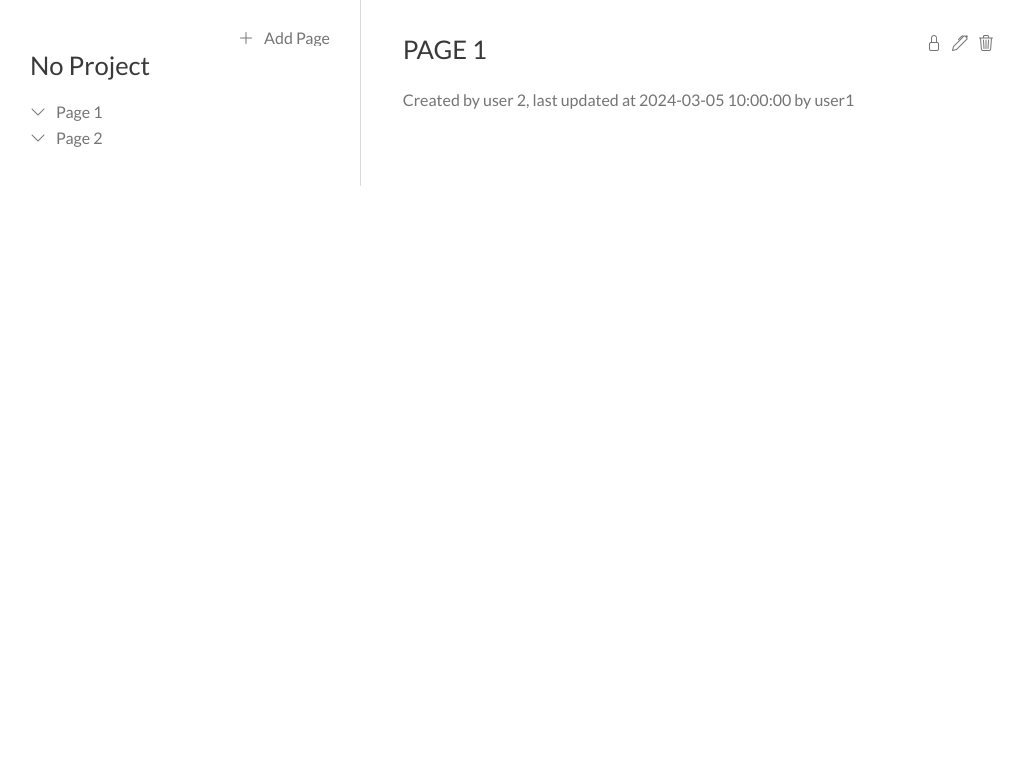
Test: <DocumentPage /> › should open the "Edit Permissions" dialog when the "Edit Permissions" button is clicked
Click the button with test id "DocumentPage.editPermissions.button": (934, 43) [926, 35, 942, 51]
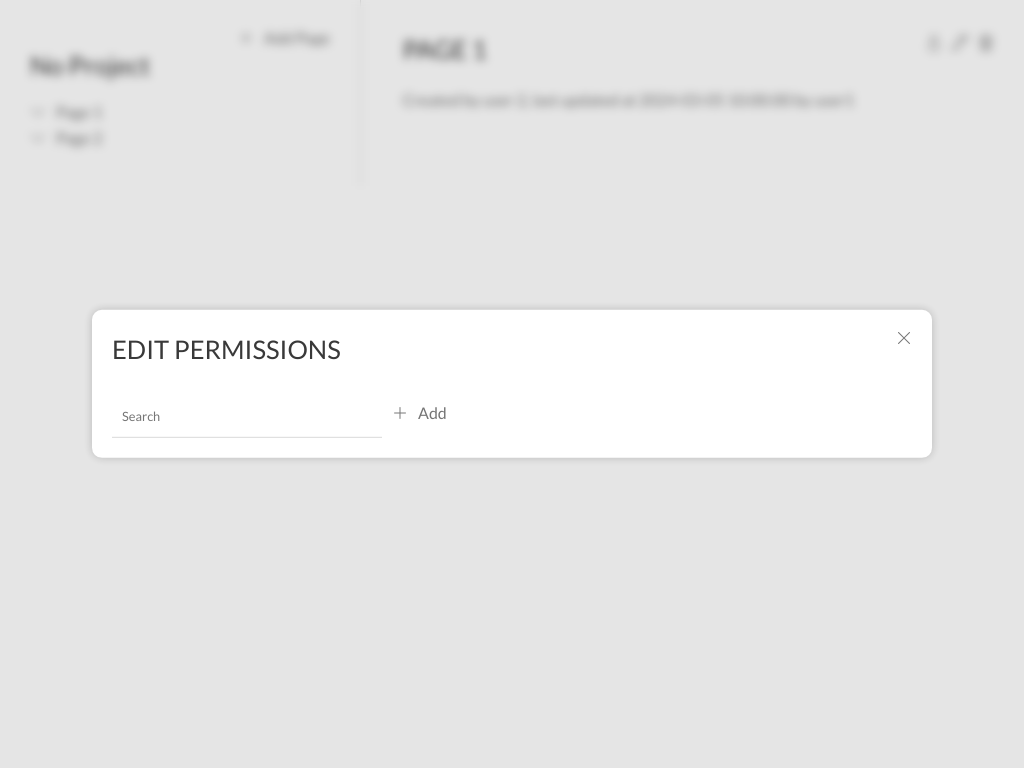
Now the element with test id "EditPermissions.container" is shown, box [112, 388, 912, 438]
